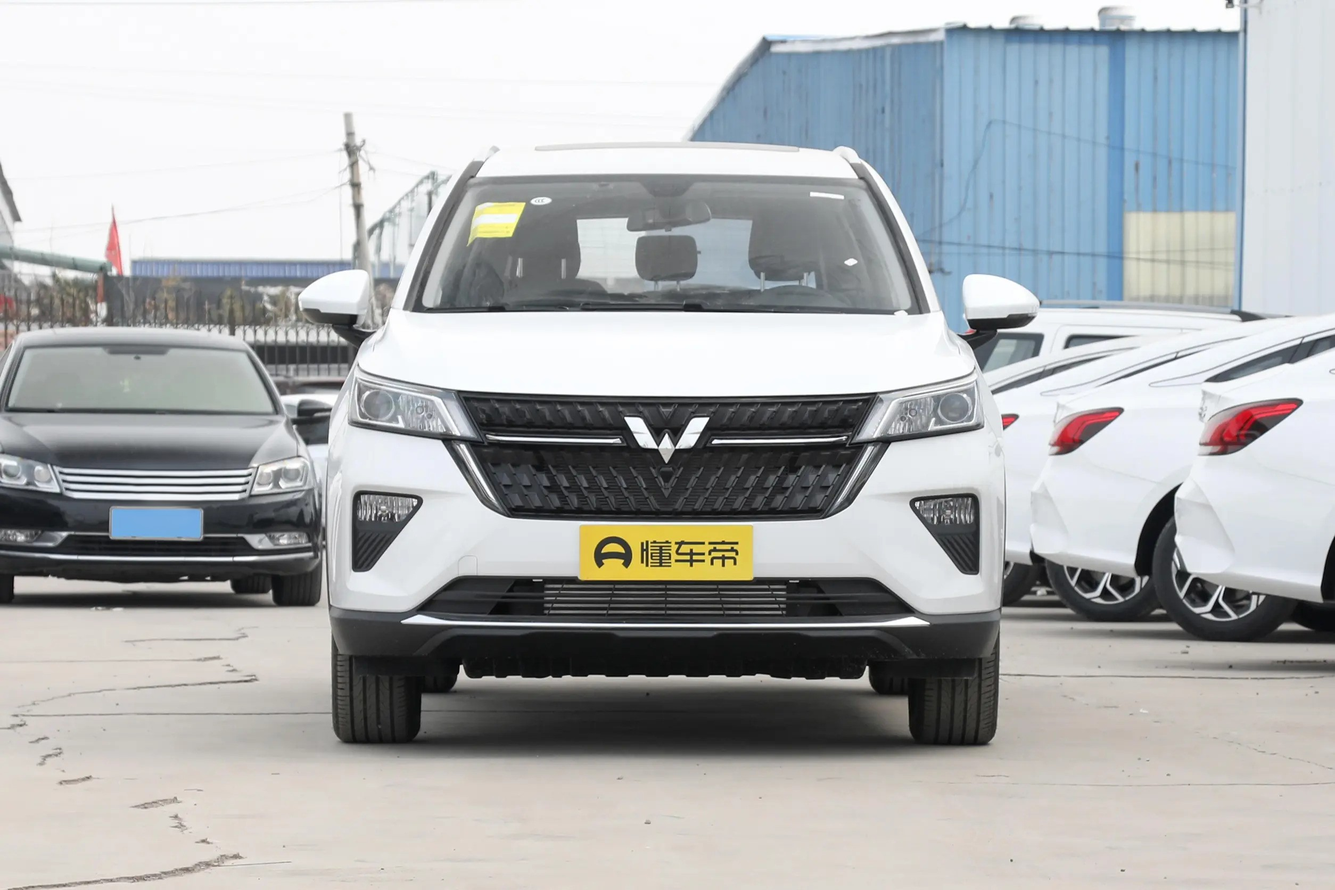SGMW: (625, 417, 709, 463)
